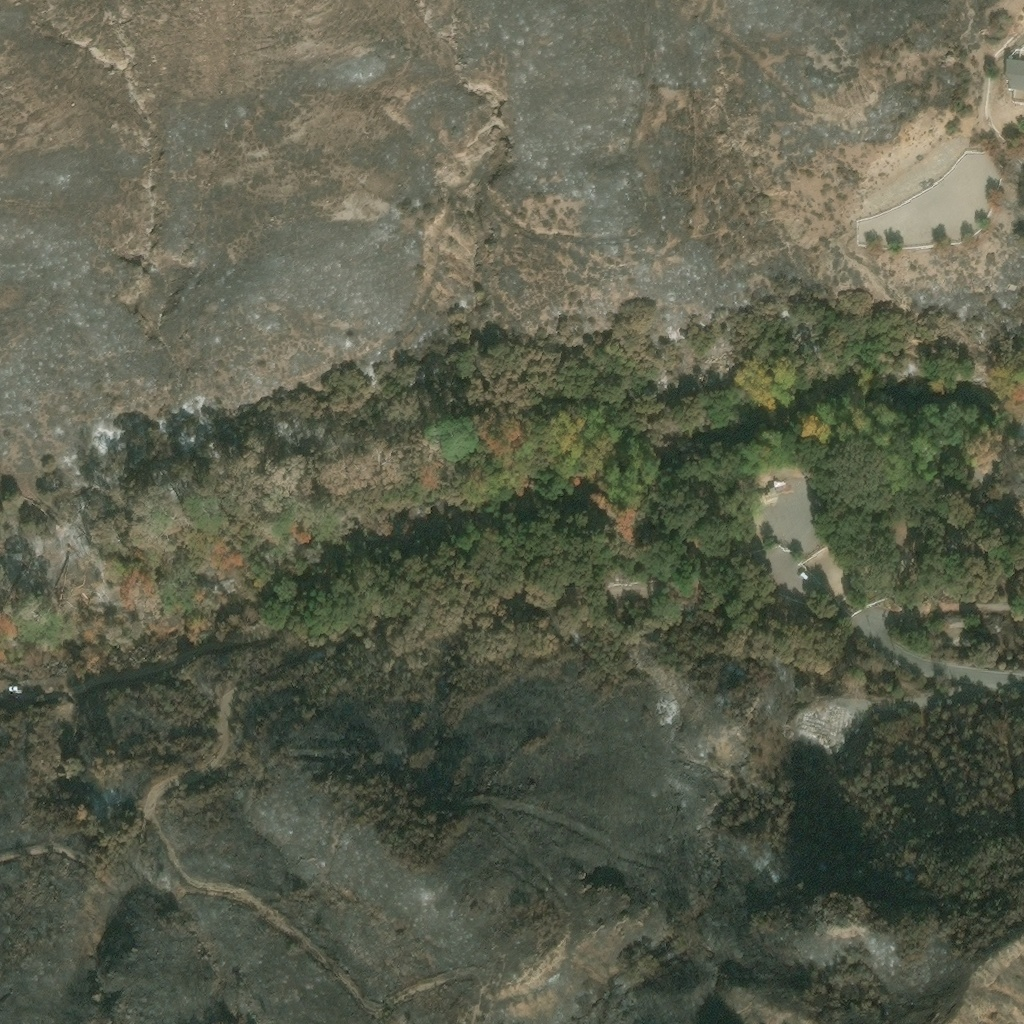0 no-damage: (1005, 61, 1023, 93), (774, 481, 790, 492)
3 destroyed: (797, 704, 849, 748)
